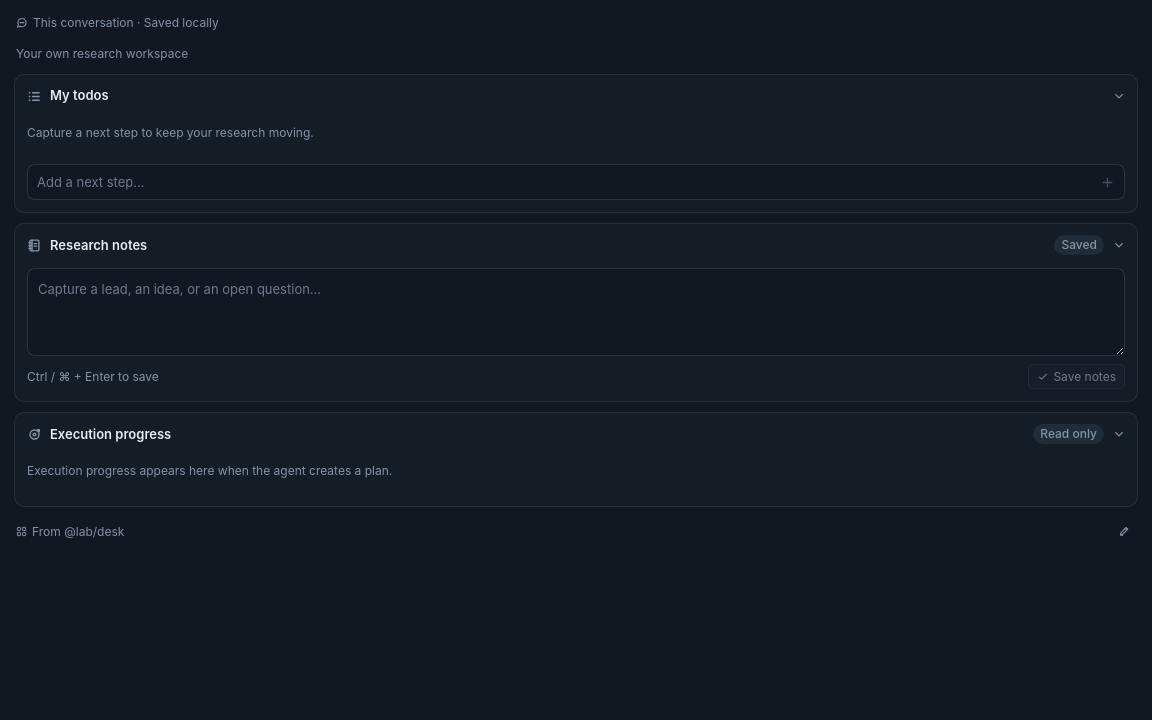
Chat plugin panels › adds, checks and removes a personal todo using the scoped revision API
The width and height of the screenshot is (1152, 720).
Type "Check sources" into the field named "New todo" at (560, 182), box 31,169 -> 1089,195
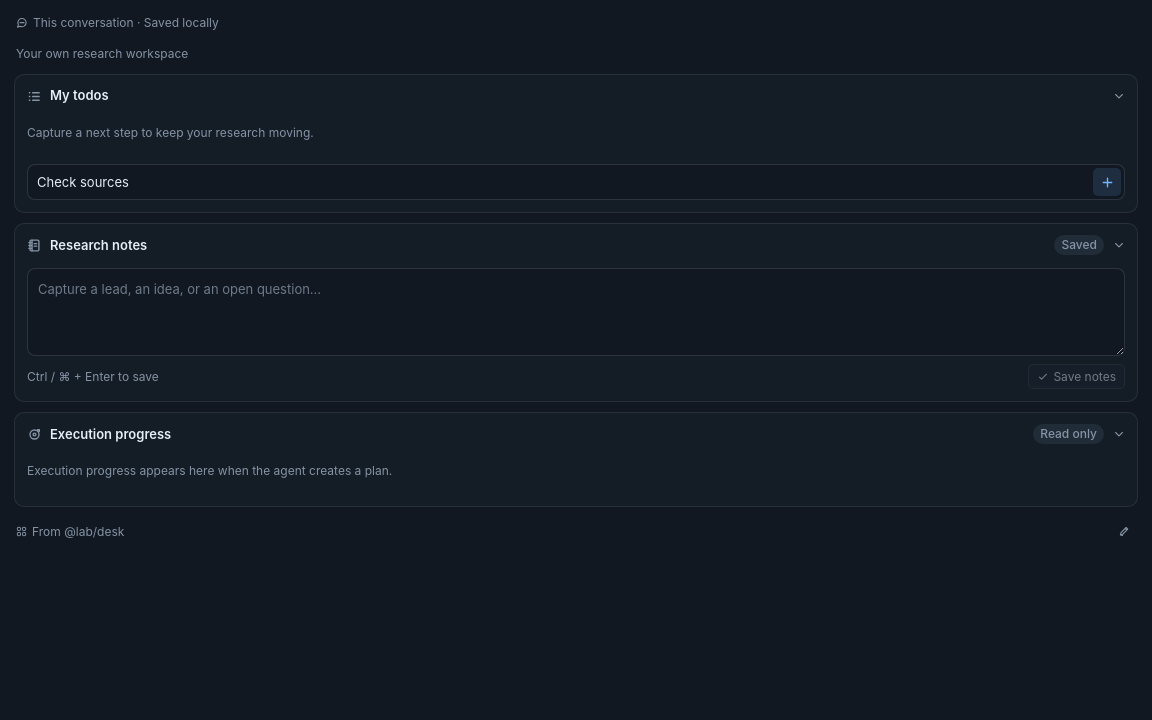
Click the button named "Add todo" at (1107, 182), box 1093,168 -> 1121,196
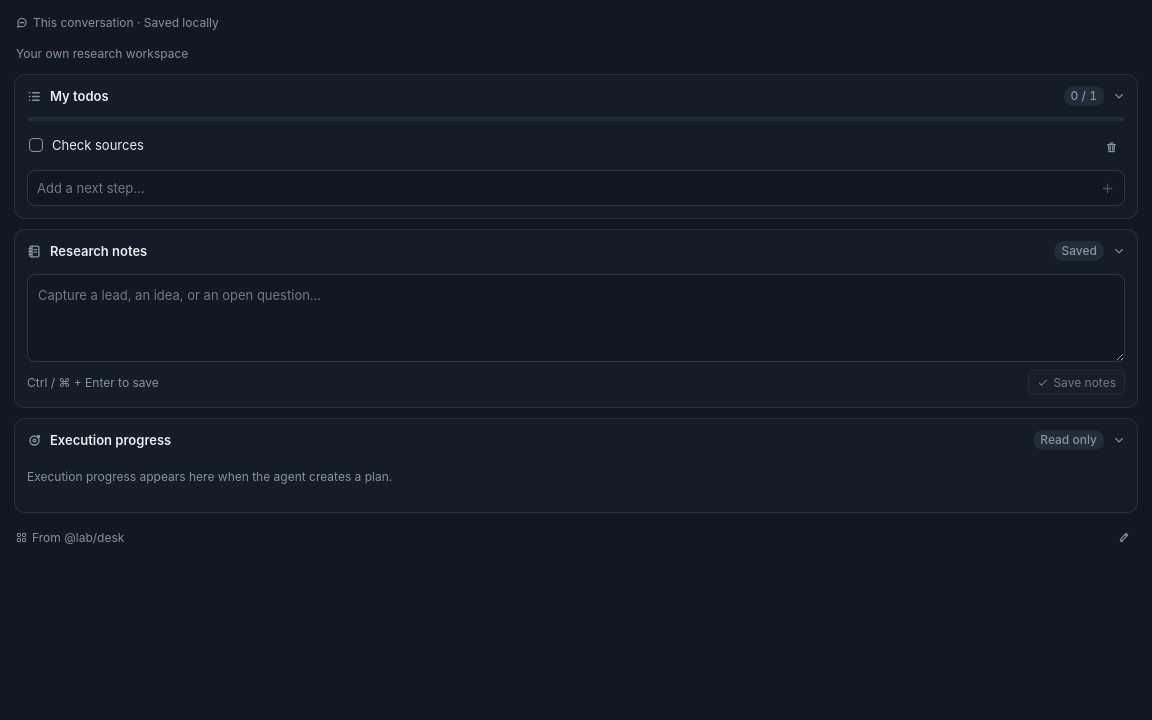
Expected: the checkbox labelled "Check sources" is enabled
Click the checkbox labelled "Check sources" at (36, 145), box 29,138 -> 43,152
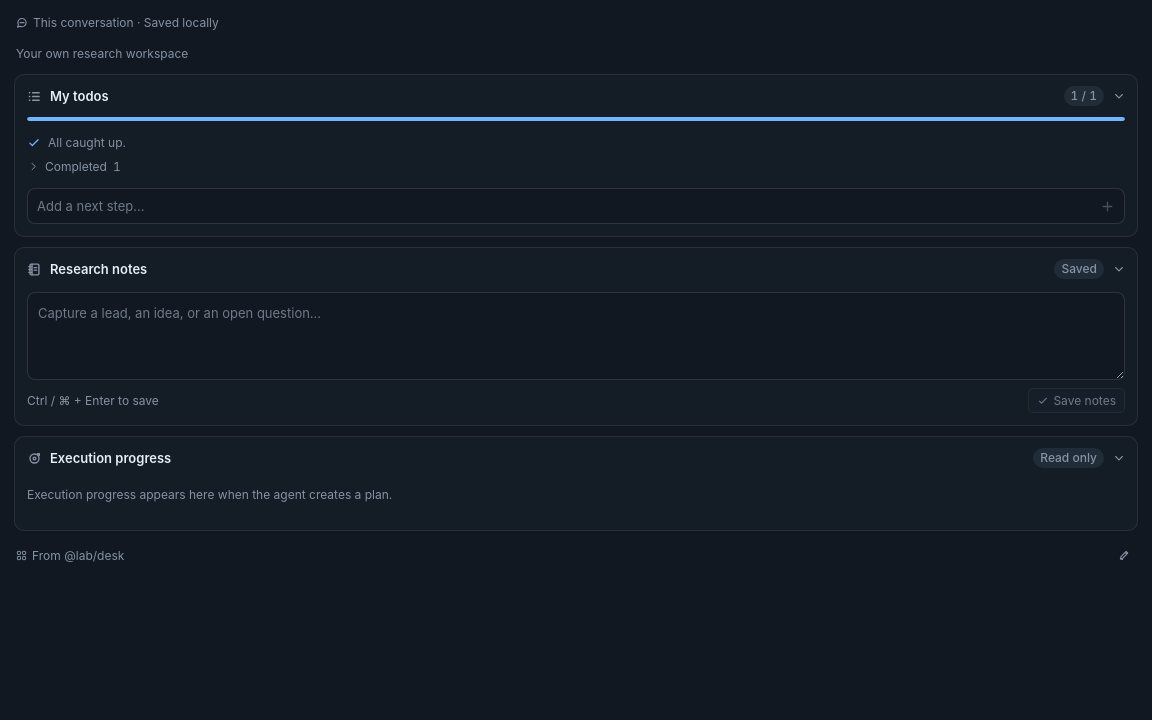
Expected: the text "Check sources" is gone
Click the button "Completed 1" at (74, 167), box 27,154 -> 122,179
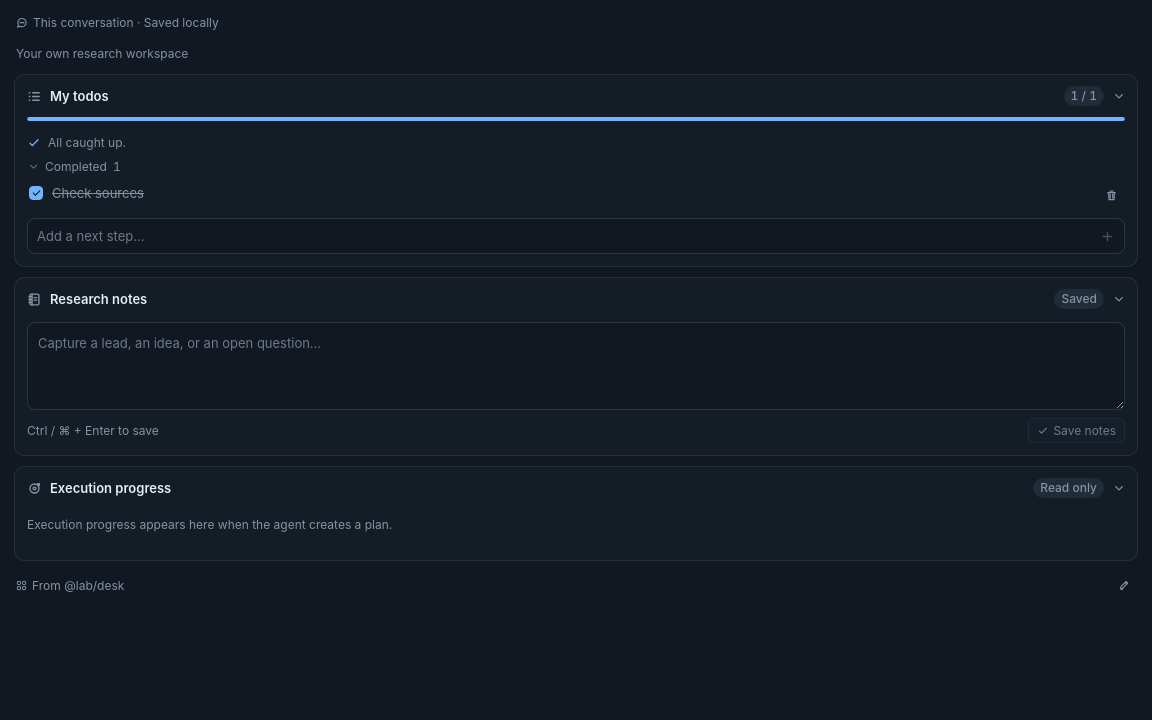
Expected: the checkbox labelled "Check sources" is checked, 29,186 -> 43,200
Expected: the button named "Delete: Check sources" is enabled
Click the button named "Delete: Check sources" at (1111, 195), box 1097,181 -> 1125,209
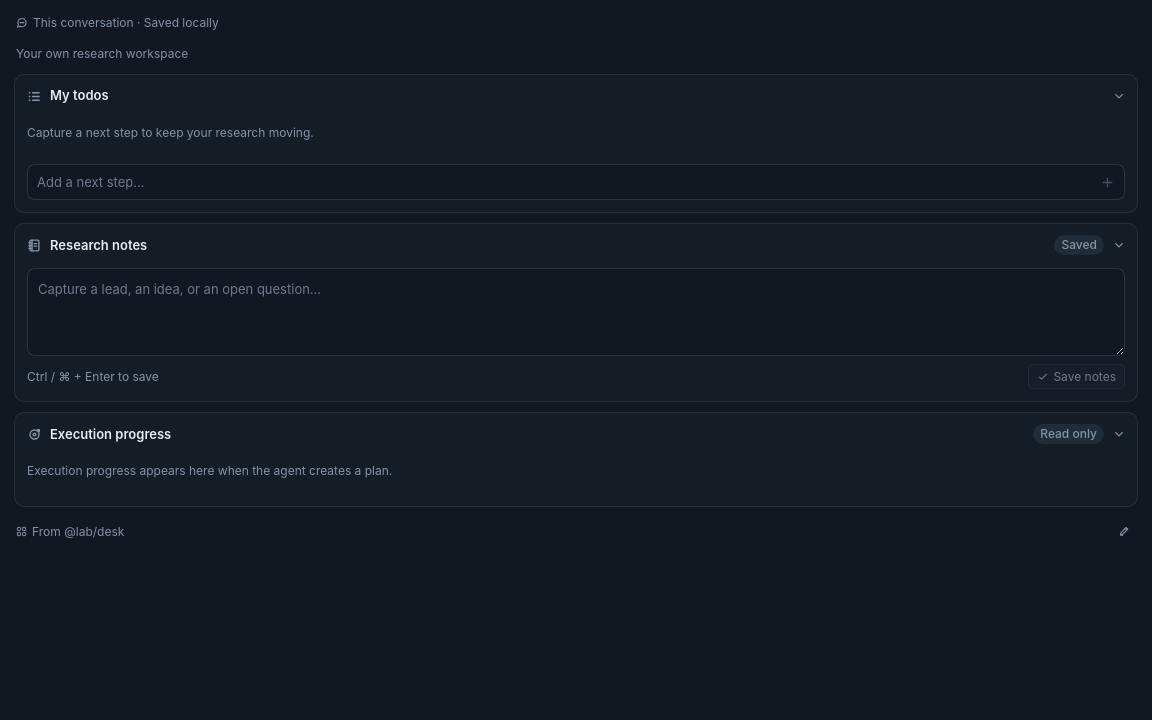
Expected: the checkbox is gone
